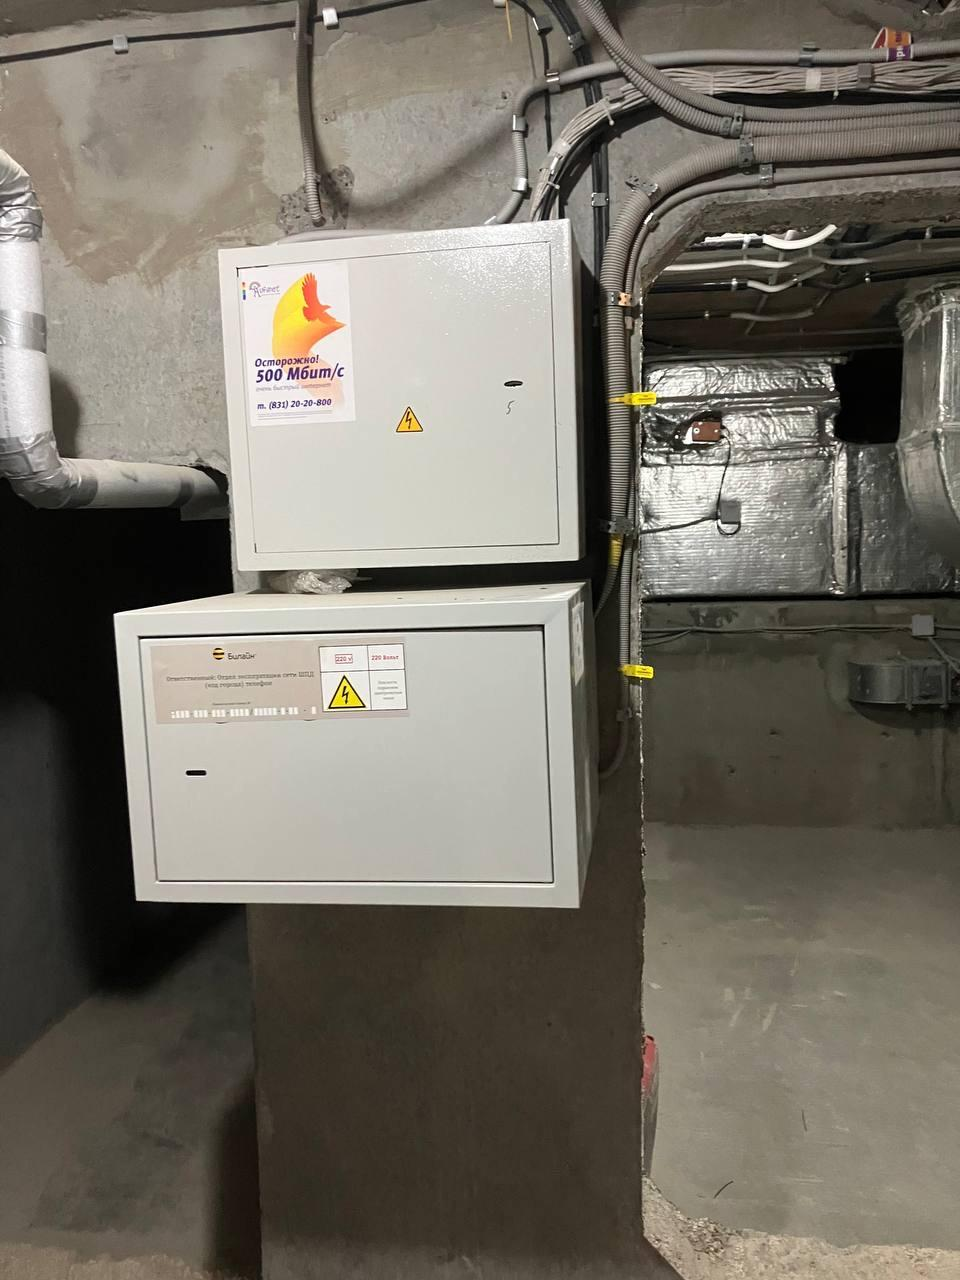shta-7m: (109, 569, 601, 916)
